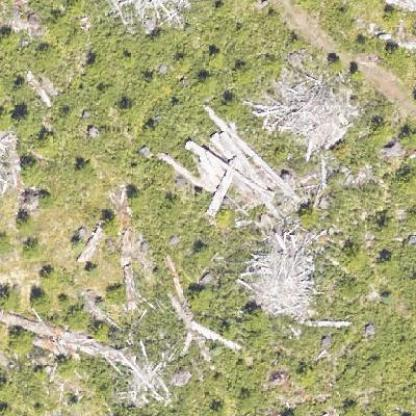tree-top: (3, 103, 43, 138), (238, 296, 272, 335), (25, 282, 58, 314), (336, 238, 364, 274), (95, 212, 122, 239), (168, 48, 194, 76)
